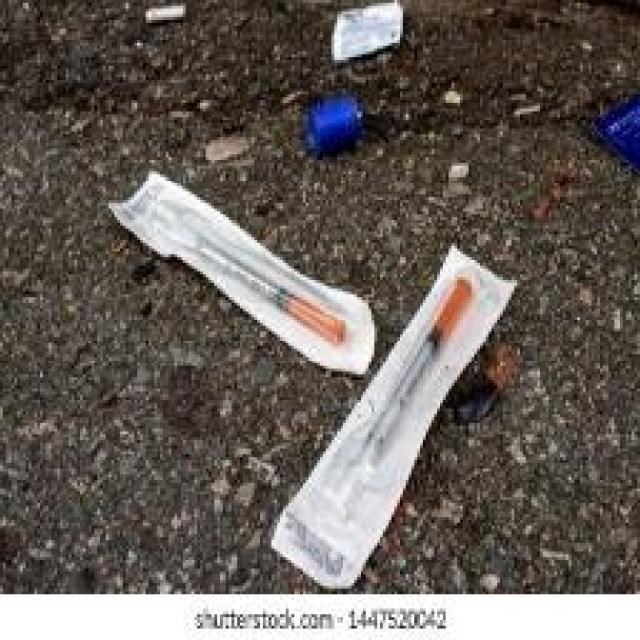syringe: (288, 260, 502, 550), (109, 172, 360, 374)
